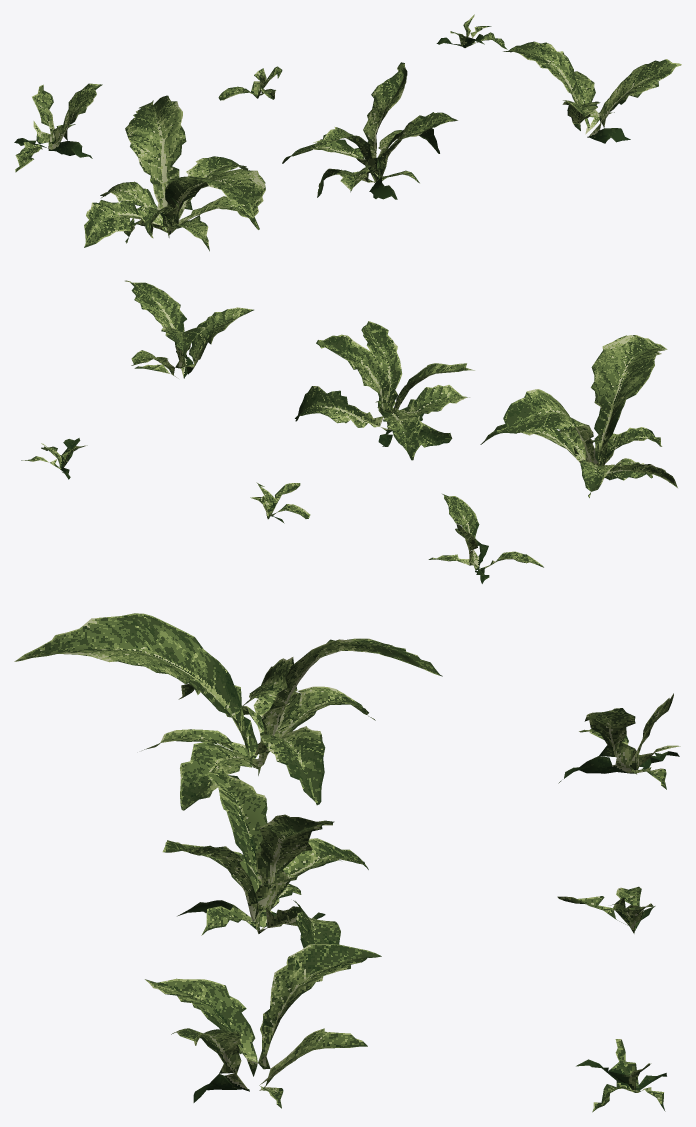
Rendered from plant_anthurium.glb.
3 views of the same model, one above another, from view 1: azimuth 30°, elevation 25°; view 2: azimuth 150°, elevation 25°; view 3: azimuth 270°, elevation 25° (orthographic). The views are drawn at different scales.
Visible parts, largest first — view 1: mesh; view 2: mesh; view 3: mesh.
Part boxes in pixels (x1,y1,x2,y2): mesh: (14, 14, 681, 251); mesh: (21, 280, 677, 583); mesh: (14, 613, 680, 1112).
Bounding box in the file's own units: 2.91 × 0.5066 × 1.85.
1 material, 1 textured.
